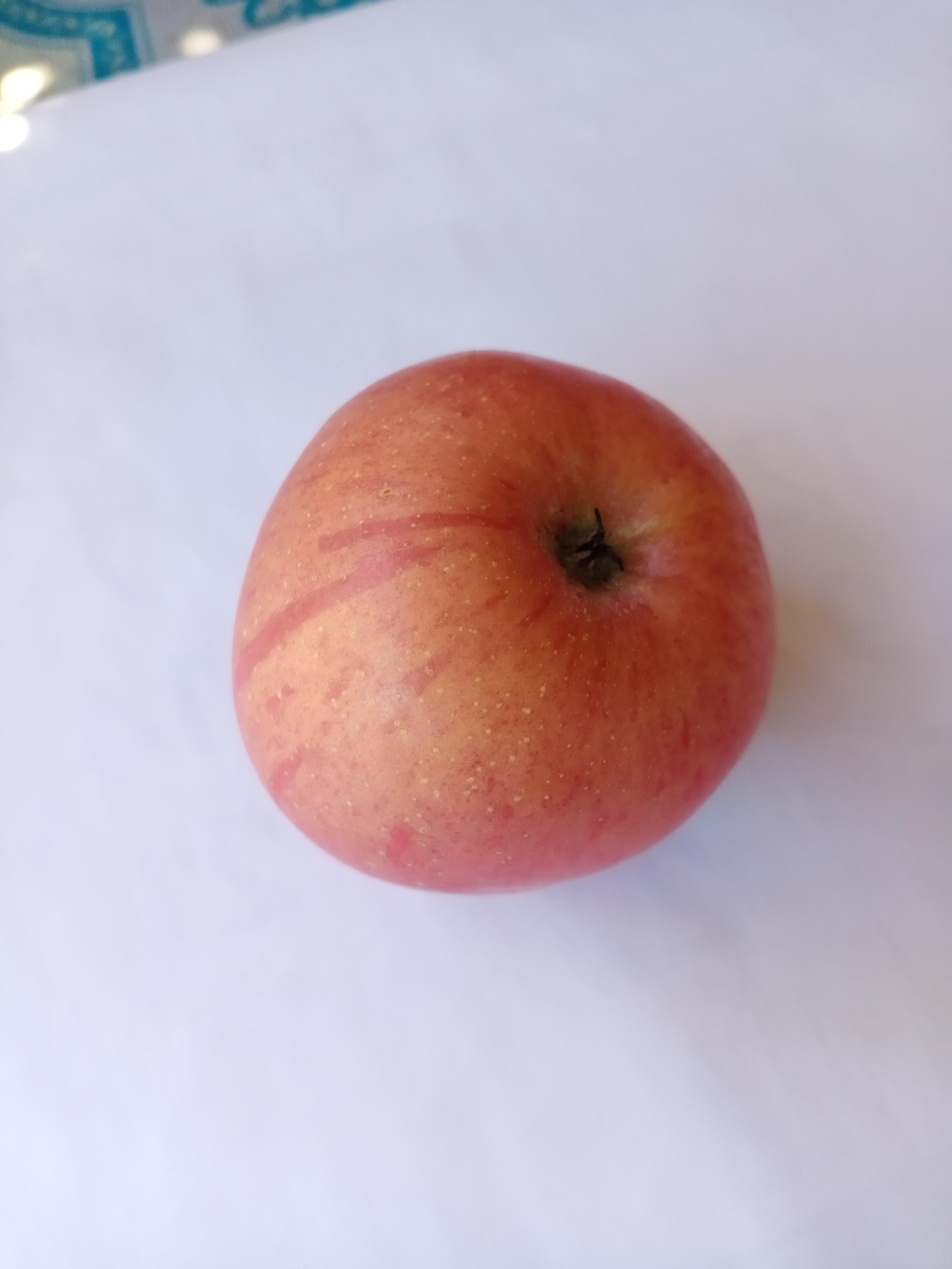Apple Ripe: (204, 328, 801, 928)
